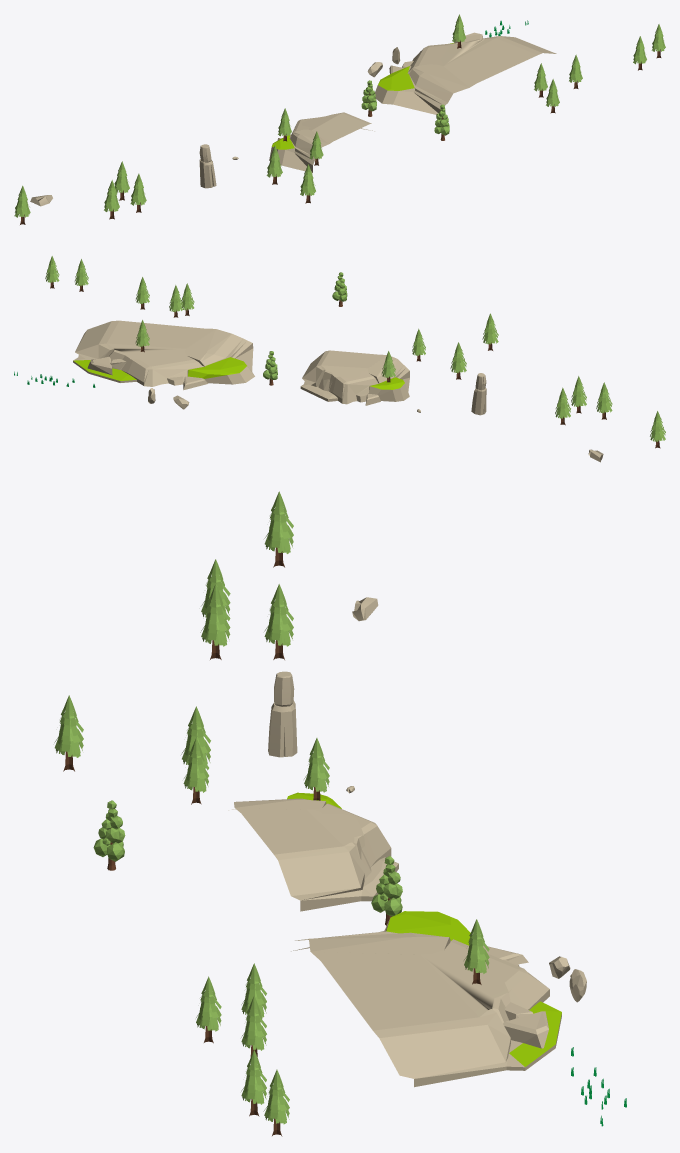
Rendered from Green_3.glb.
The picture shows the model from 3 angles, top to bottom: view 1: azimuth 30°, elevation 25°; view 2: azimuth 150°, elevation 25°; view 3: azimuth 270°, elevation 25°; orthographic projection. The views are drawn at different scales.
Parts seen in each view (by area): view 1: polySurface18637; view 2: polySurface18637; view 3: polySurface18637.
Part boxes in pixels (left/top/right/bottom): polySurface18637: left=14, top=14, right=665, bottom=224; polySurface18637: left=14, top=256, right=665, bottom=462; polySurface18637: left=54, top=491, right=626, bottom=1136.
Size of the model in its own units: 66.1 by 6.74 by 26.53.
